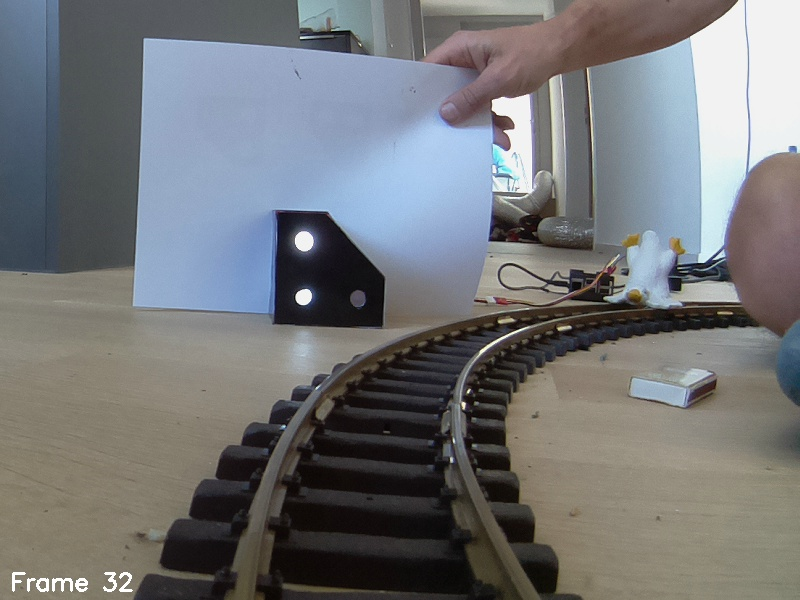Fahrt: (270, 206, 386, 332)
